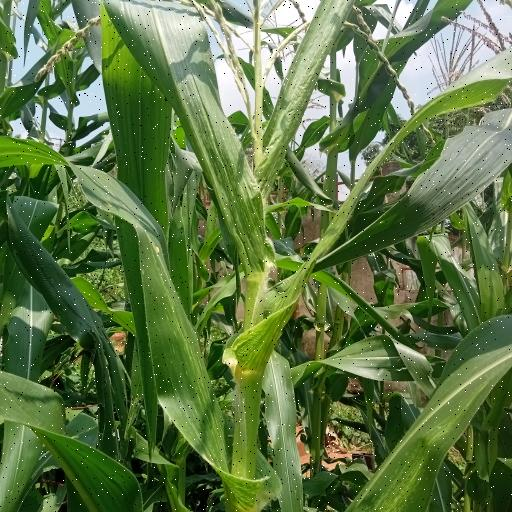Corn_Streak: (72, 4, 286, 501)
